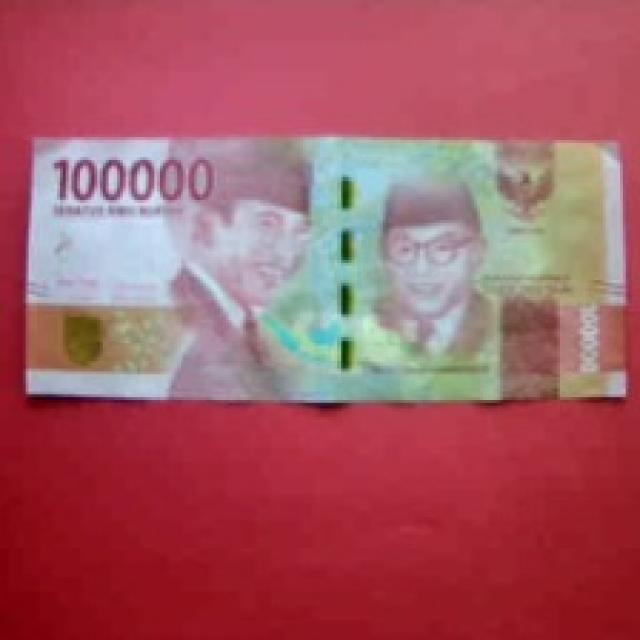lima puluh ribu rupiah: (46, 145, 326, 378)
